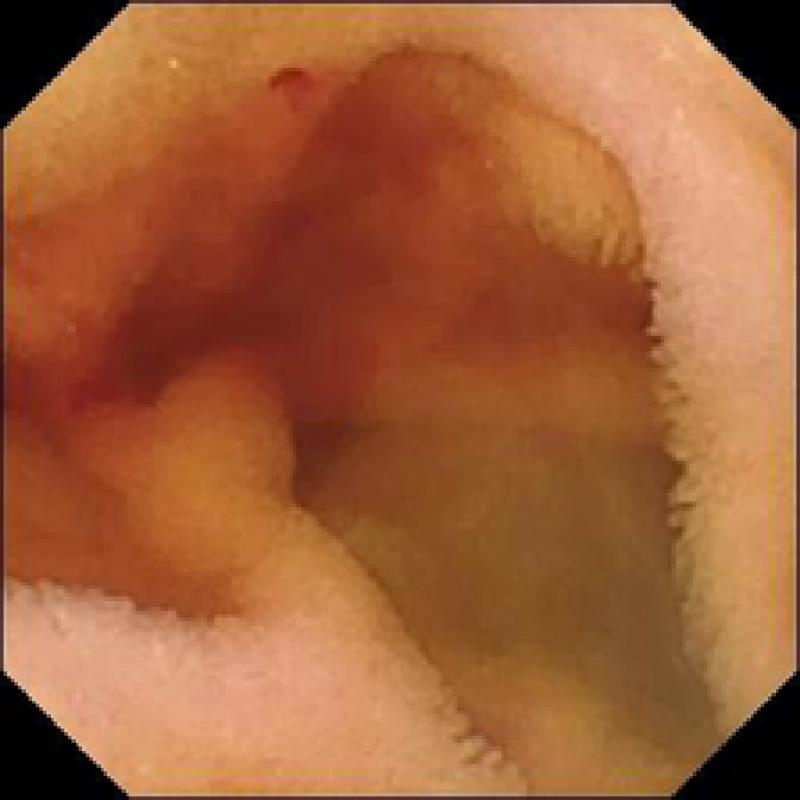bleeding: (11, 68, 443, 411)
